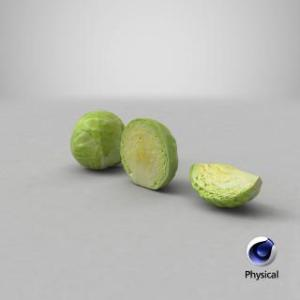cabbage: (118, 118, 179, 190), (188, 163, 262, 211), (71, 110, 125, 172)
